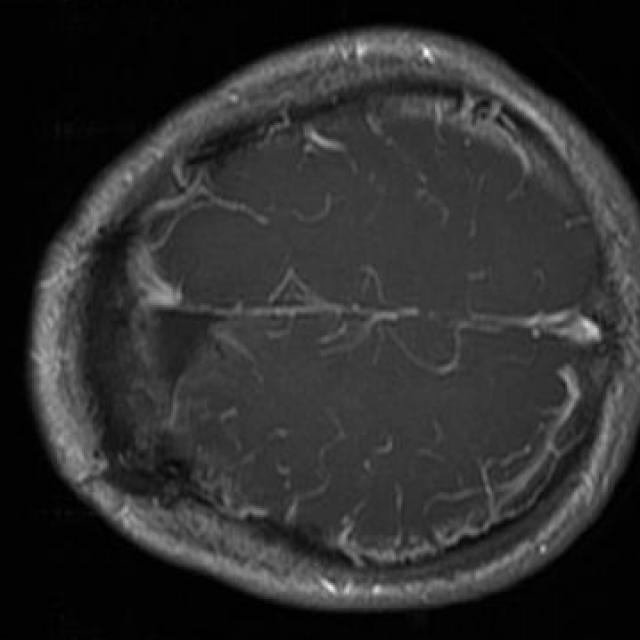glioma: (100, 239, 212, 497)
